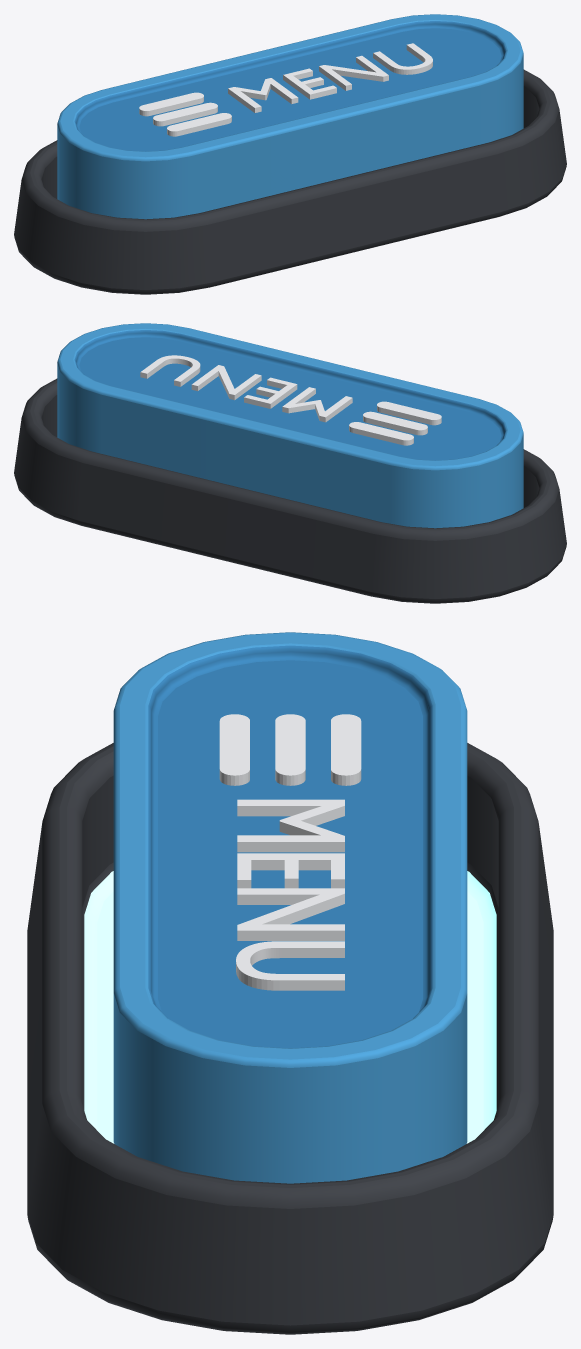
File: MenuButton.fbx
The picture shows the model from 3 angles, top to bottom: view 1: azimuth 30°, elevation 25°; view 2: azimuth 150°, elevation 25°; view 3: azimuth 270°, elevation 25°; orthographic projection. The views are drawn at different scales.
Parts seen in each view (by area): view 1: Button_Cap, Button_Base; view 2: Button_Cap, Button_Base; view 3: Button_Cap, Button_Base.
Boxes of the visible parts, x1,y1,x2,y2 form: Button_Cap: (57, 14, 523, 219); Button_Base: (14, 69, 566, 294); Button_Cap: (57, 323, 523, 528); Button_Base: (14, 378, 566, 603); Button_Cap: (113, 632, 467, 1183); Button_Base: (27, 743, 553, 1334).
Size of the model in its own units: 0.0947 by 0.021 by 0.0417.
